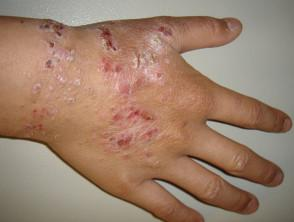Eczema: (95, 23, 121, 53), (125, 107, 158, 123), (151, 22, 180, 40), (136, 124, 162, 144), (111, 79, 133, 100), (29, 106, 57, 121), (112, 130, 135, 148), (98, 54, 114, 75), (46, 51, 62, 69), (143, 49, 159, 67), (130, 48, 143, 70), (22, 122, 48, 133), (51, 71, 67, 87), (63, 46, 78, 63), (29, 79, 41, 100), (106, 111, 124, 124), (148, 34, 164, 47), (35, 20, 50, 33), (135, 74, 148, 89), (156, 94, 171, 105), (45, 37, 58, 49), (71, 76, 84, 88), (112, 63, 125, 75), (153, 70, 166, 80), (45, 83, 56, 94), (180, 118, 190, 129), (101, 128, 111, 139), (145, 149, 157, 158), (66, 96, 78, 105), (119, 153, 133, 160), (53, 29, 63, 38), (53, 23, 63, 31), (18, 19, 28, 24)
